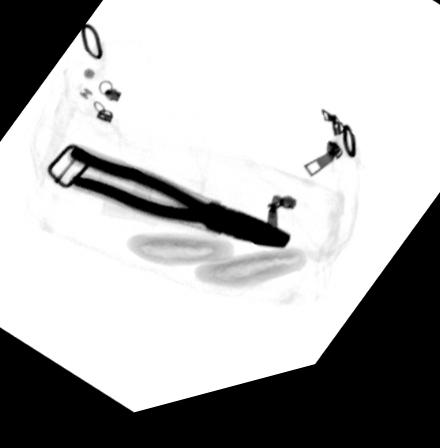Pliers: (65, 145, 292, 264)
